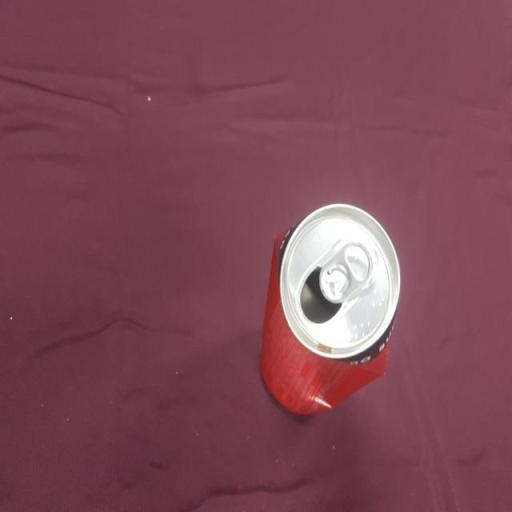metal: (240, 180, 421, 438)
